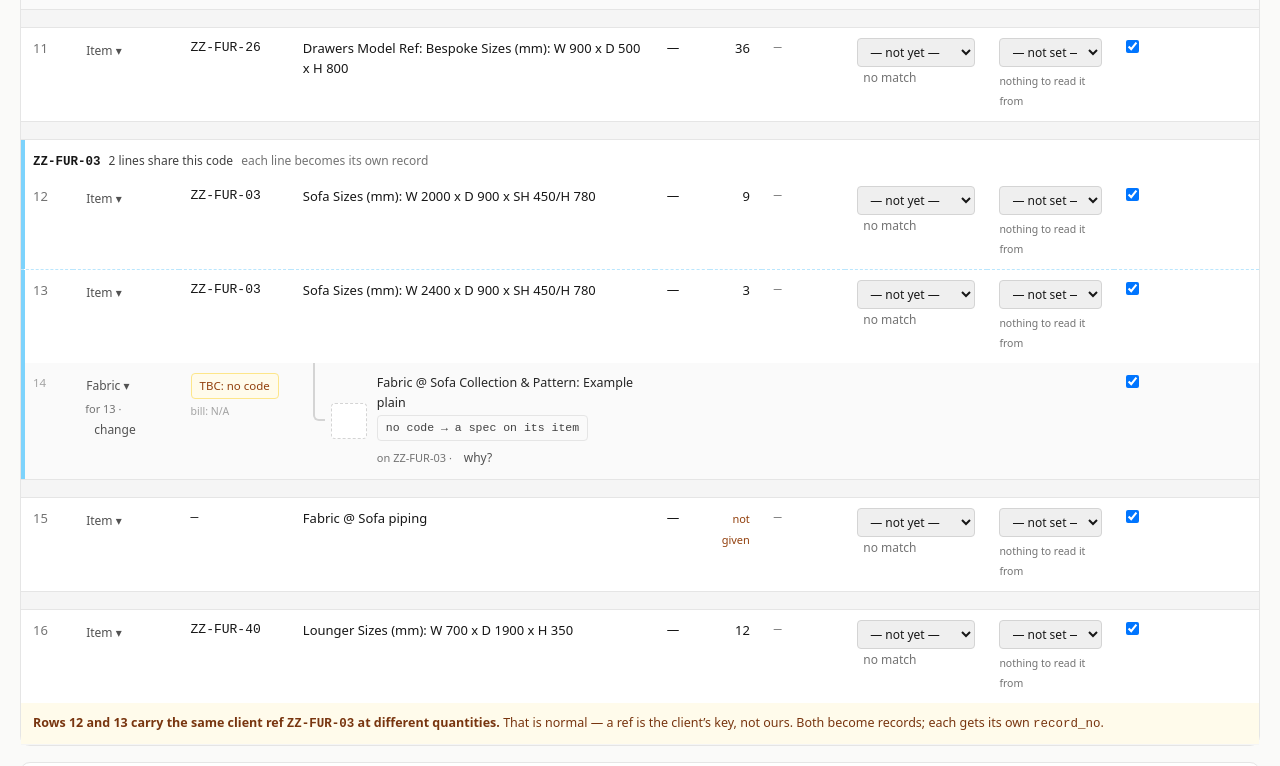
Test case: a line's kind › puts a quiet Kind on every line of the review, the select one press behind it, and a fabric's why behind a why?
(page scrolled)
Click the button with aria-label "Row 14 is Fabric — change" at {"x": 108, "y": 386}, box [77,373,138,399]
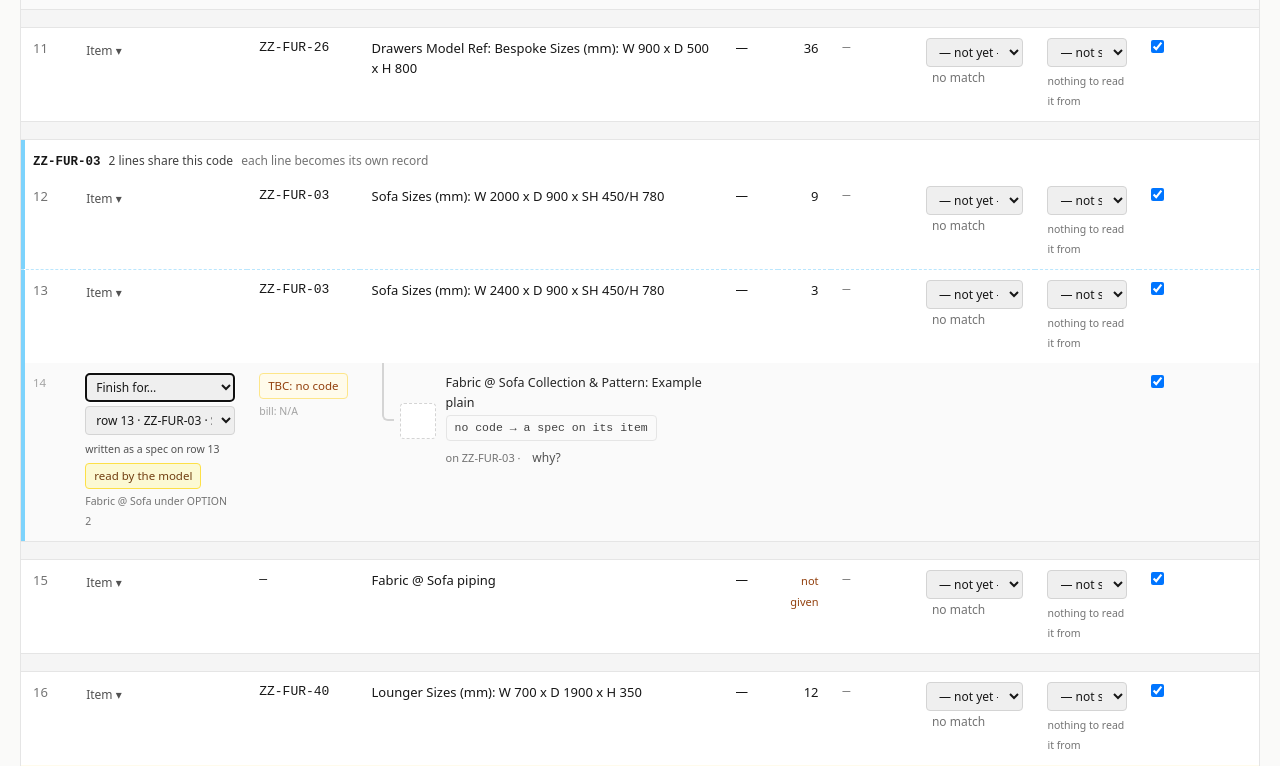
Expected: the text "Not a record — its description is written as a spec on row 13" is not shown
Result: the dropdown named "Row 14 is" shows "Finish for…" at [85,373,235,402]
Click the button with aria-label "Why row 14 is a fabric line" at {"x": 547, "y": 458}, box [523,445,570,471]
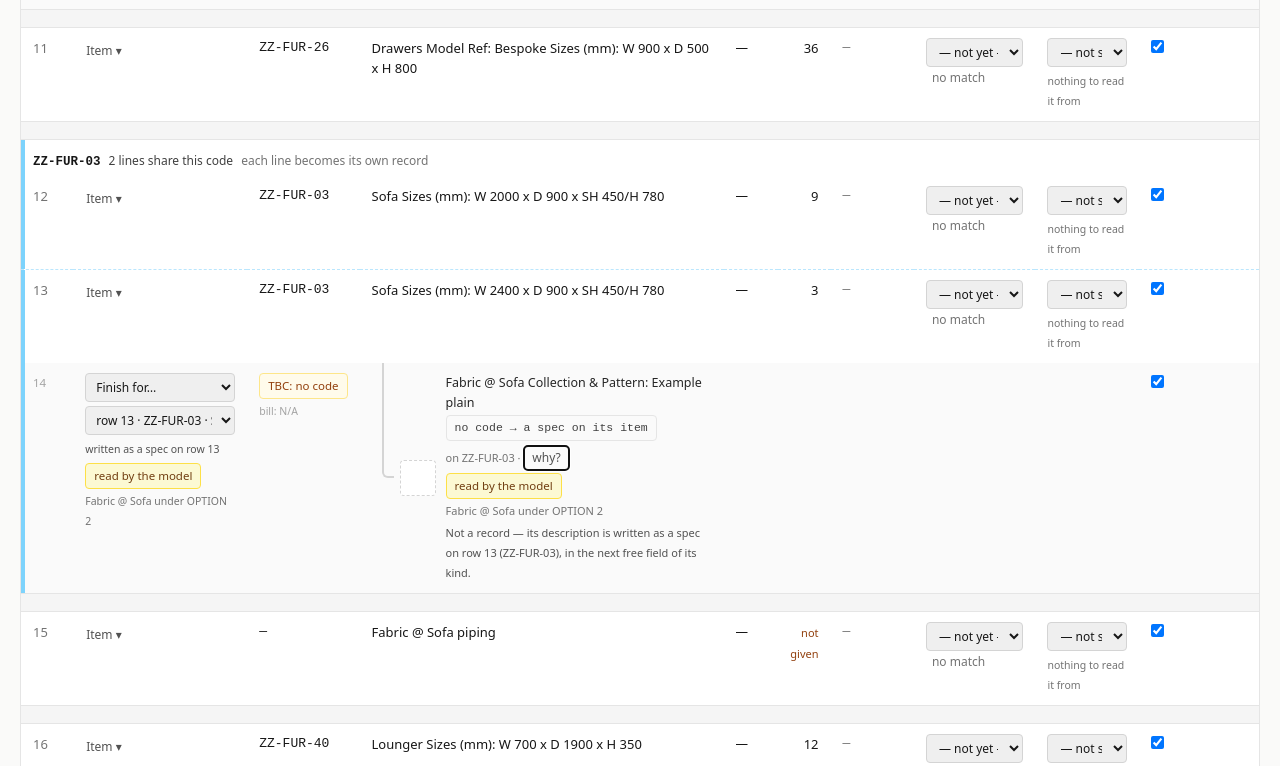
Result: the text "Not a record — its description is written as a spec on row 13" is shown at [446,523,712,583]
